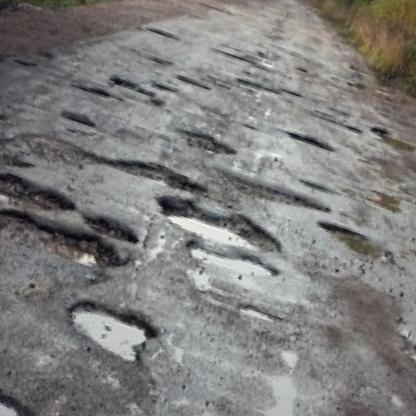pothole: (10, 117, 209, 214), (148, 184, 288, 263), (0, 198, 133, 280), (197, 160, 333, 237), (57, 292, 162, 370), (182, 234, 282, 289), (0, 159, 79, 225), (312, 217, 400, 267), (0, 107, 37, 186), (173, 123, 241, 162), (385, 298, 416, 383), (80, 210, 142, 249), (209, 44, 275, 73), (366, 122, 416, 159), (309, 109, 366, 136), (286, 128, 336, 155), (74, 79, 123, 105), (0, 375, 29, 416), (239, 300, 281, 326), (109, 76, 155, 99), (236, 74, 279, 96), (174, 72, 214, 93), (60, 108, 96, 130), (146, 23, 178, 42), (13, 55, 38, 71), (152, 79, 177, 95), (149, 95, 168, 109), (280, 86, 302, 97), (295, 65, 307, 75)
